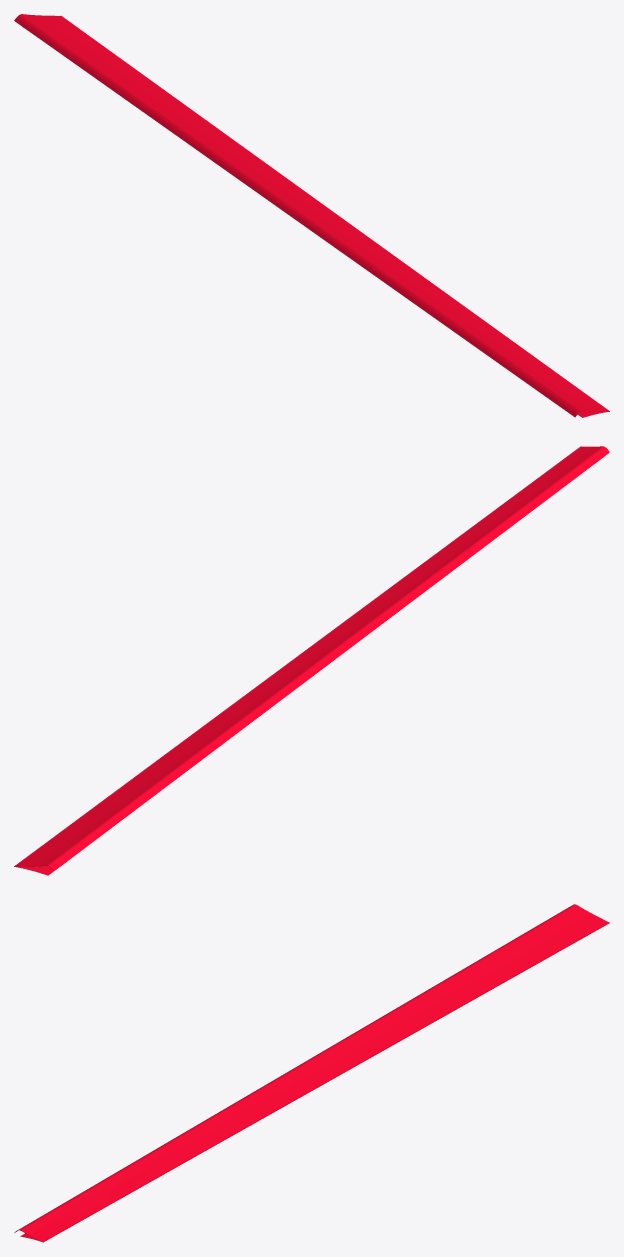
Rendered from pik_20b_left_flap.dae.
3 views of the same model, one above another, from view 1: azimuth 30°, elevation 25°; view 2: azimuth 150°, elevation 25°; view 3: azimuth 330°, elevation 25° (orthographic). The views are drawn at different scales.
Parts seen in each view (by area): view 1: node5.004; view 2: node5.004; view 3: node5.004.
Boxes of the visible parts, <box> form: node5.004: <box>14,14,609,417</box>; node5.004: <box>14,446,609,875</box>; node5.004: <box>14,904,609,1242</box>.
Size of the model in its own units: 0.3433 by 4.08 by 0.2465.
